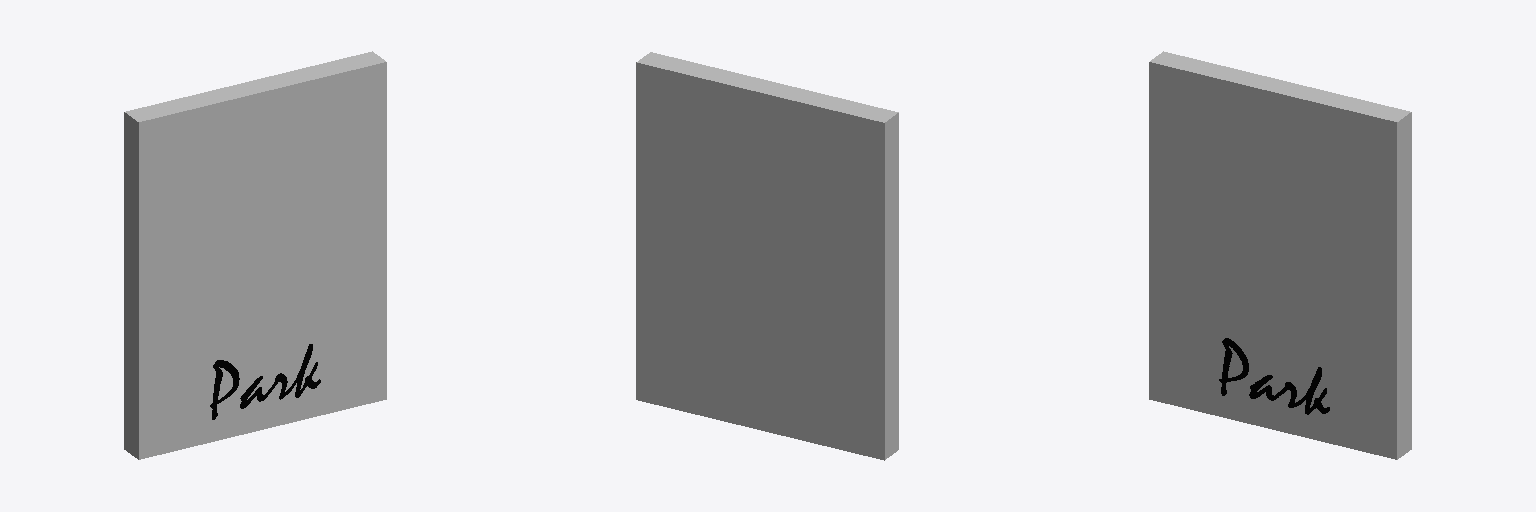
The model's file is polaroidPark.obj.
3 renders of one model, left to right at view 1: azimuth 30°, elevation 25°; view 2: azimuth 150°, elevation 25°; view 3: azimuth 330°, elevation 25°, orthographic.
Visible parts, largest first — view 1: Plane, Cube, Text; view 2: Cube; view 3: Plane, Cube, Text.
Part boxes in pixels (x1,y1,x2,y2): Plane: (152, 78, 375, 365); Cube: (124, 51, 386, 459); Text: (210, 344, 320, 419); Cube: (636, 52, 898, 460); Plane: (1161, 78, 1383, 365); Cube: (1149, 51, 1411, 459); Text: (1219, 338, 1329, 414).
Bounding box in the file's own units: 2 × 2.6 × 0.2107.